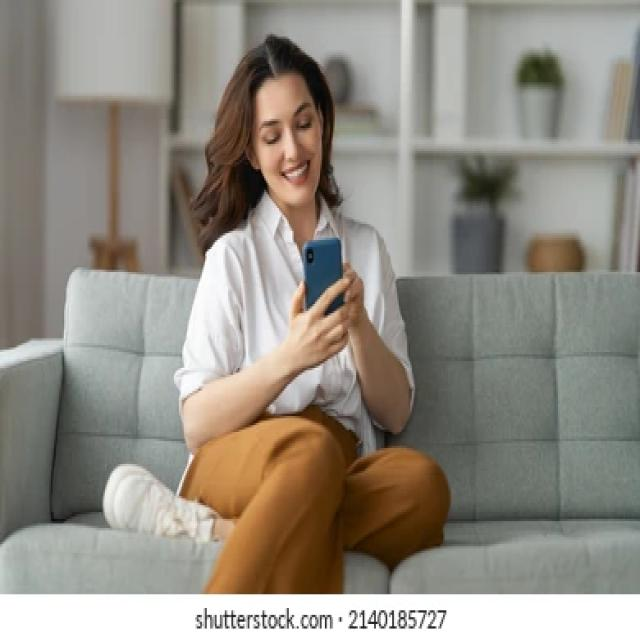smartphone-person: (172, 24, 444, 593)
